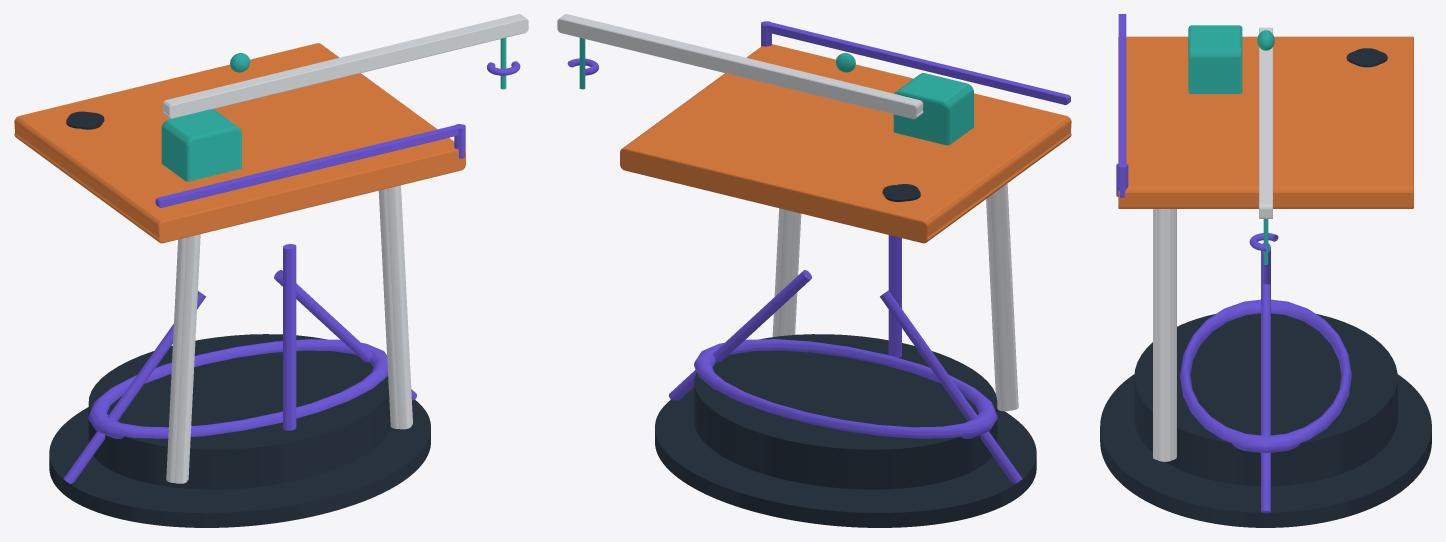
File: 0444_机械图鉴_重力投石机.glb
The picture shows the model from 3 angles, left to right: view 1: azimuth 30°, elevation 25°; view 2: azimuth 150°, elevation 25°; view 3: azimuth 270°, elevation 25°; orthographic projection. The views are drawn at different scales.
Parts seen in each view (by area): view 1: card_0444; view 2: card_0444; view 3: card_0444.
Part boxes in pixels (x1,y1,x2,y2): card_0444: (14,14,528,527); card_0444: (557,14,1071,527); card_0444: (1100,14,1431,527).
Size of the model in its own units: 1.17 by 1 by 0.7113.
